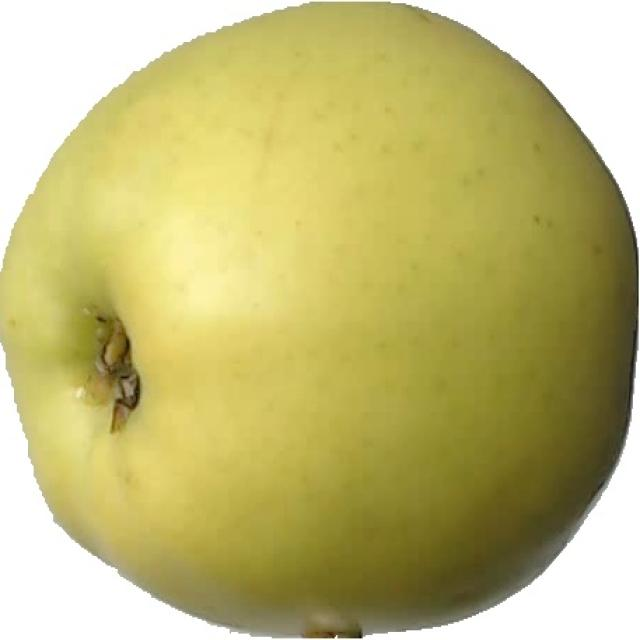Golden Elma: (2, 3, 640, 633)
